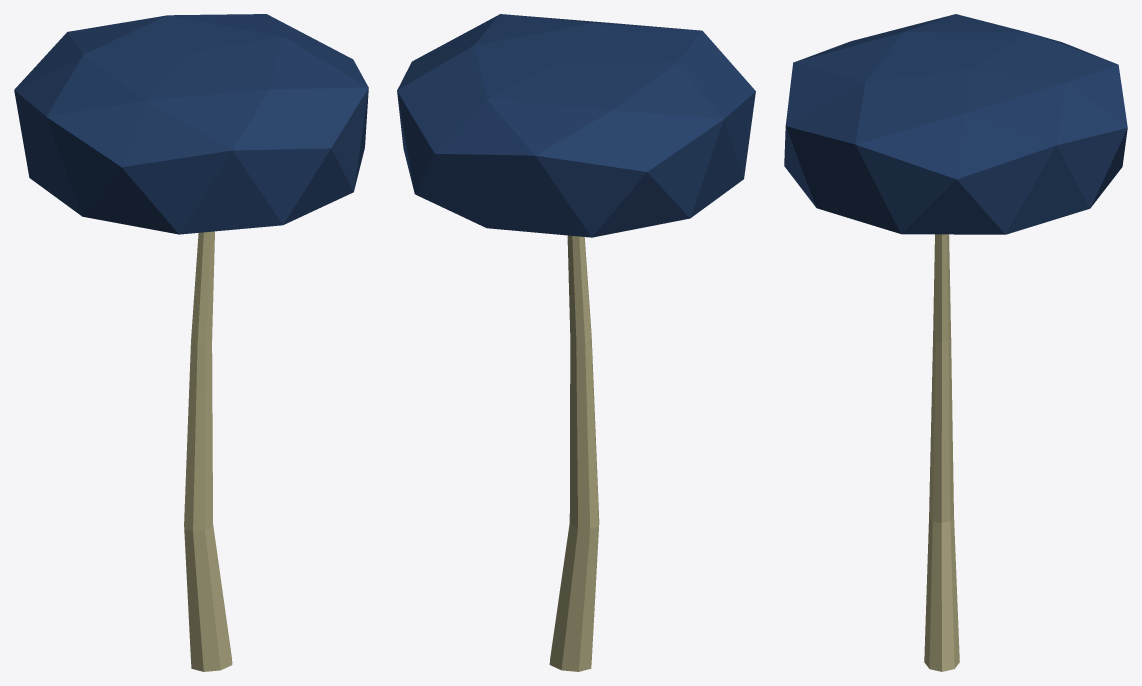
File: flat_mushroom_tall_blue.fbx
The picture shows the model from 3 angles, left to right: view 1: azimuth 30°, elevation 25°; view 2: azimuth 150°, elevation 25°; view 3: azimuth 270°, elevation 25°; orthographic projection. The views are drawn at different scales.
Visible parts, largest first — view 1: flat_mushroom_tall_blue; view 2: flat_mushroom_tall_blue; view 3: flat_mushroom_tall_blue.
Part boxes in pixels (x1,y1,x2,y2): flat_mushroom_tall_blue: [14, 14, 368, 671]; flat_mushroom_tall_blue: [397, 14, 755, 671]; flat_mushroom_tall_blue: [784, 14, 1127, 671].
Size of the model in its own units: 61.03 by 114 by 59.95.
